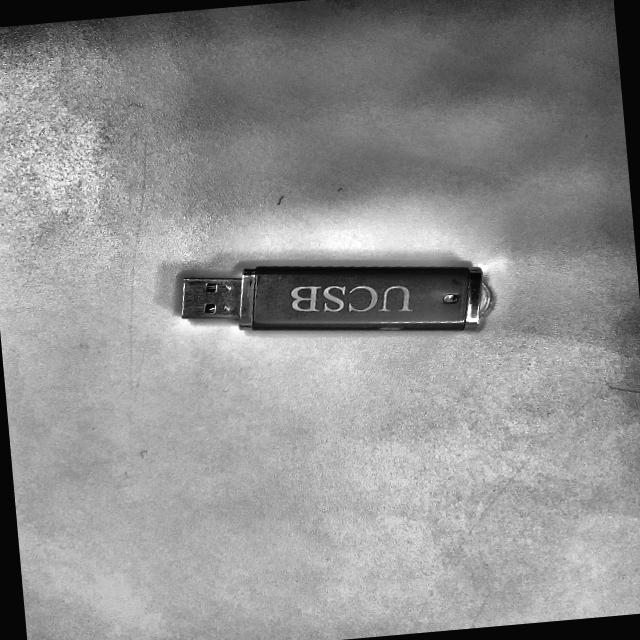Mug: (160, 253, 493, 352)
